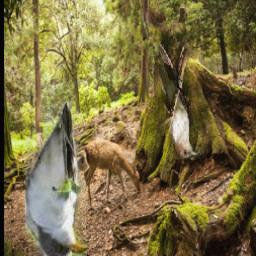Cuckoo: (26, 102, 88, 256), (141, 9, 197, 159)
